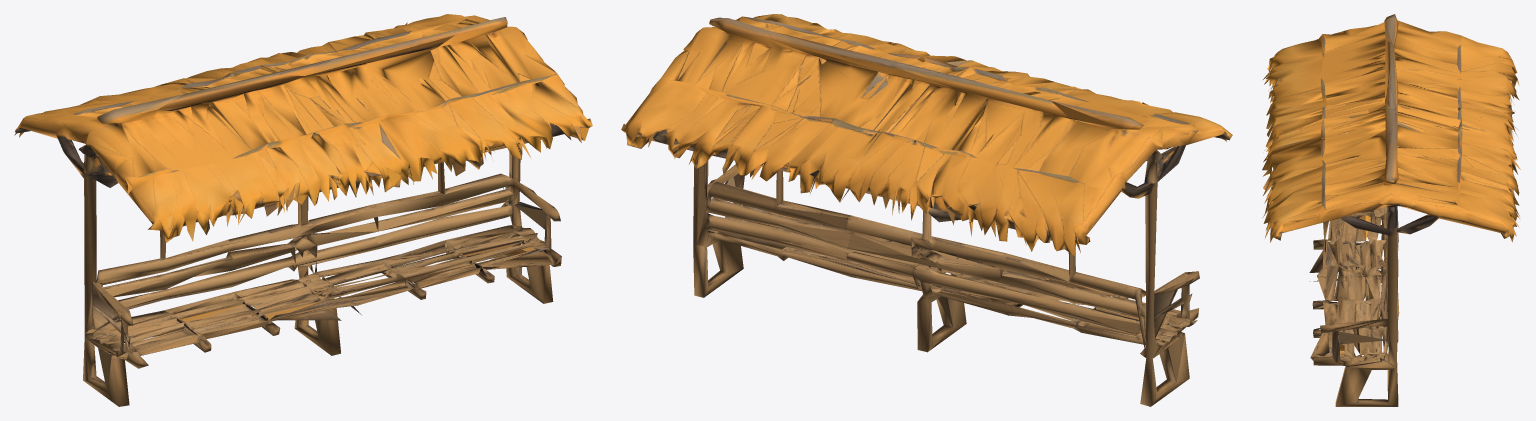
The model's file is Stand.glb.
3 views of the same model, side by side, from view 1: azimuth 30°, elevation 25°; view 2: azimuth 150°, elevation 25°; view 3: azimuth 270°, elevation 25° (orthographic). The views are drawn at different scales.
Visible parts, largest first — view 1: mesh_node; view 2: mesh_node; view 3: mesh_node.
Boxes of the visible parts, <box> form: mesh_node: <box>14,14,592,406</box>; mesh_node: <box>621,14,1232,406</box>; mesh_node: <box>1262,14,1520,406</box>.
Bounding box in the file's own units: 4.37 × 2.5 × 2.63.
1 material, 1 textured.
